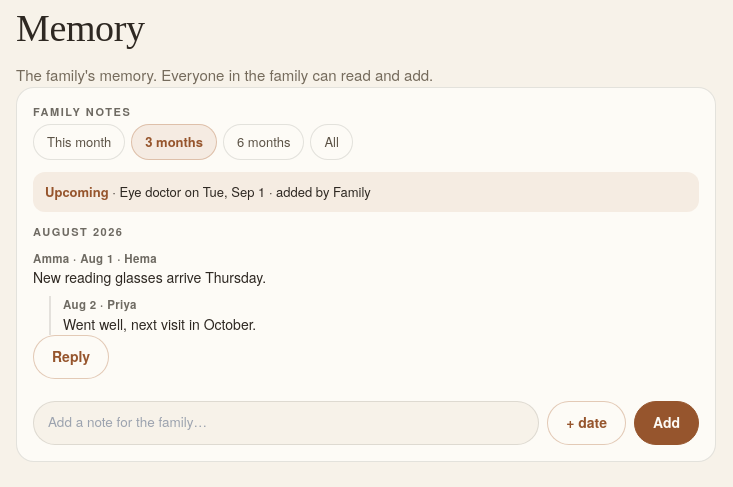
Test: rendered copy law › holds for the Memory screen and its feed (spec 012, filters in §9.1)
The width and height of the screenshot is (733, 487).
What coordinates should you click on to do the following:
click the button with test id "reply-link"
I would click on:
 (71, 356)
Its box is [33,334,109,378].
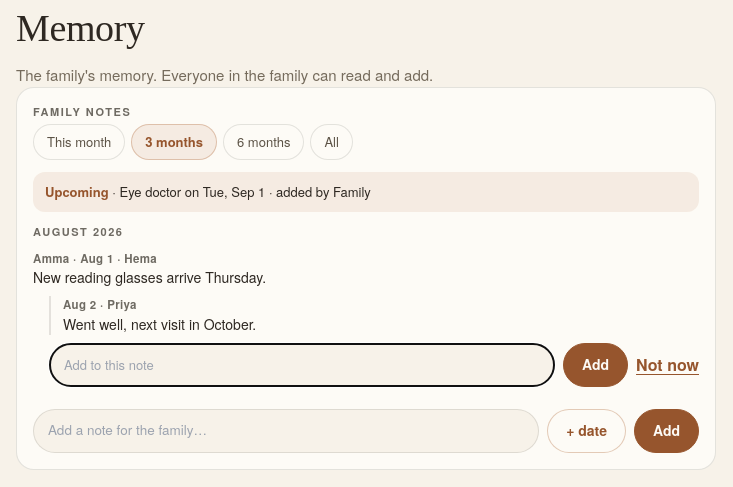
Expected: the number of elements with test id "note-reply" is 1, [49,296,699,335]
Now the element with test id "reply-composer" is shown, box [49,342,699,386]
